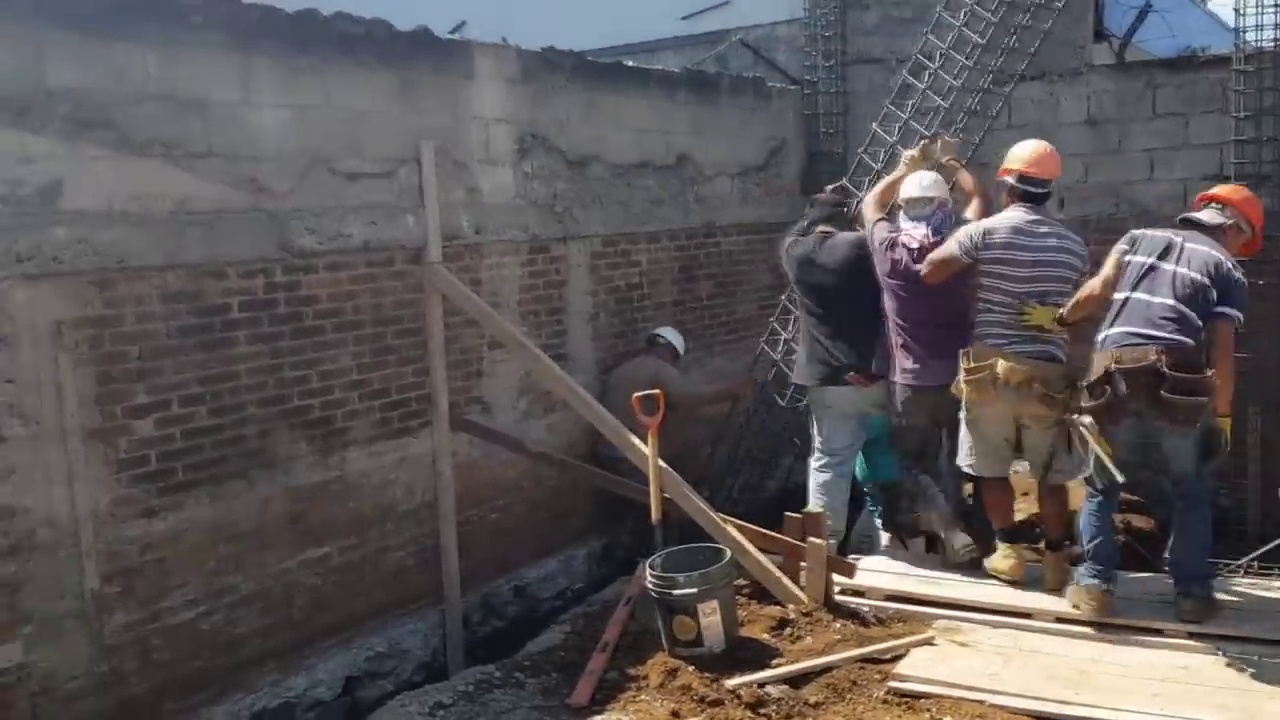helmet: (1191, 183, 1269, 237), (1002, 141, 1066, 187), (894, 169, 952, 216), (652, 326, 686, 360)
helmet-off: (804, 192, 850, 238)
helmet-on: (1167, 182, 1271, 262), (995, 140, 1066, 216), (894, 169, 953, 247), (642, 325, 686, 366)
person: (1068, 181, 1273, 605), (920, 140, 1105, 600), (862, 139, 987, 550), (783, 191, 897, 559), (604, 325, 752, 581)
